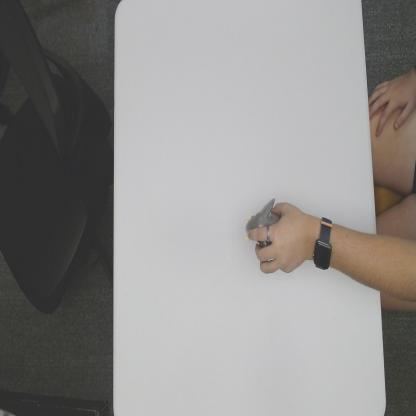Arm: (333, 222, 379, 293)
Elephant: (243, 196, 283, 248)
Hand: (248, 200, 312, 275)
